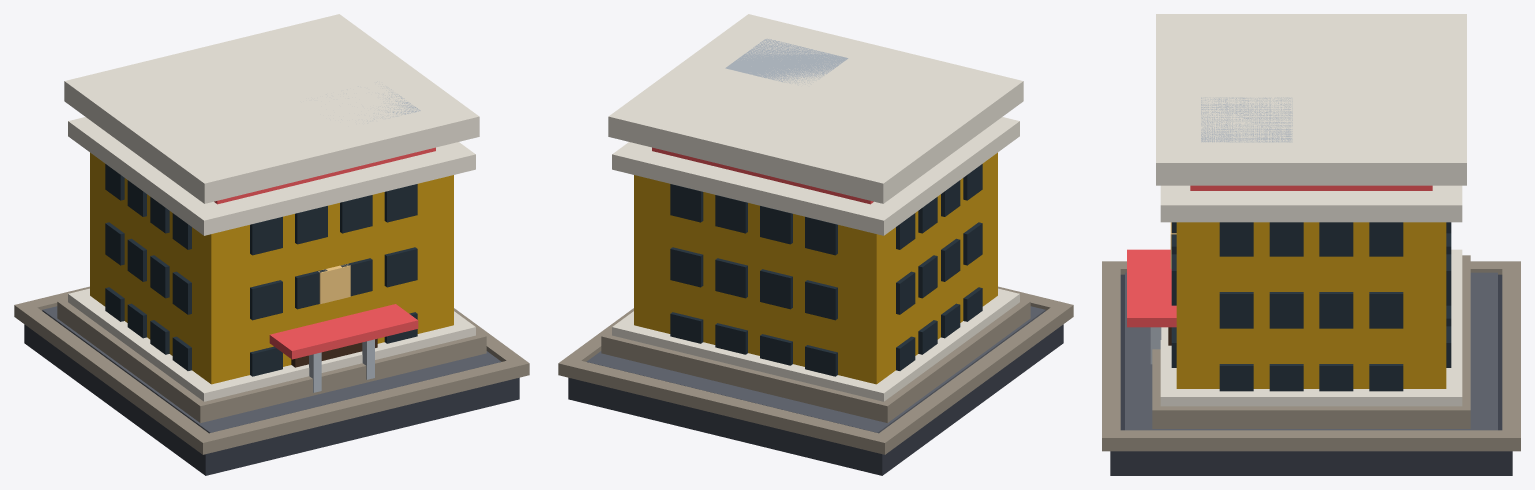
File: city.mall.glb
3 views of the same model, side by side, from view 1: azimuth 30°, elevation 25°; view 2: azimuth 150°, elevation 25°; view 3: azimuth 270°, elevation 25° (orthographic). The views are drawn at different scales.
Parts seen in each view (by area): view 1: city.mall; view 2: city.mall; view 3: city.mall.
Part boxes in pixels (x1=…): city.mall: x1=14, y1=14, x2=529, y2=475; city.mall: x1=558, y1=14, x2=1073, y2=475; city.mall: x1=1102, y1=14, x2=1520, y2=475.
Size of the model in its own units: 2.02 by 1.61 by 2.02.
